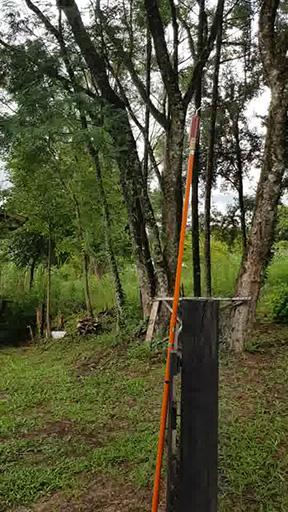Detector_Tensao_Contato: (188, 104, 204, 142)
Vara_Manobra: (151, 140, 197, 512)
